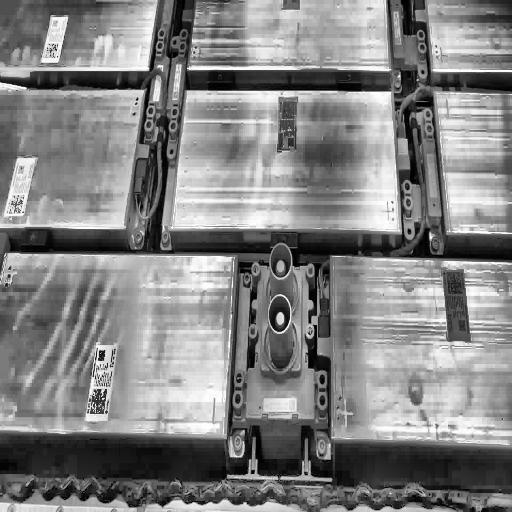battery_module: (170, 89, 403, 235)
busbar: (141, 22, 190, 163), (401, 106, 444, 253)
connector: (230, 238, 329, 460)
high_volt_cable: (40, 60, 171, 224)
nut: (317, 436, 327, 456), (160, 229, 170, 247), (431, 234, 440, 252), (234, 434, 243, 450), (242, 270, 251, 286), (135, 228, 143, 246), (394, 74, 402, 92)
